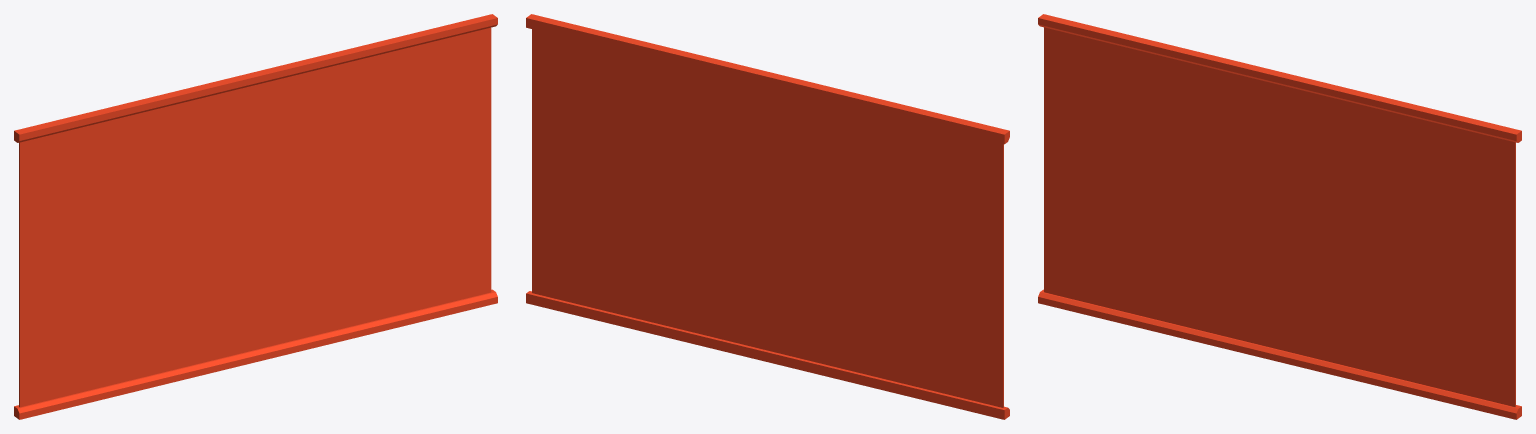
The model's file is SM_Billboard_Burgers_City.fbx.
3 views of the same model, side by side, from view 1: azimuth 30°, elevation 25°; view 2: azimuth 150°, elevation 25°; view 3: azimuth 330°, elevation 25° (orthographic).
Visible parts, largest first — view 1: SM_Billboard_Burgers_City; view 2: SM_Billboard_Burgers_City; view 3: SM_Billboard_Burgers_City.
Part boxes in pixels (x1,y1,x2,y2): SM_Billboard_Burgers_City: [14, 14, 497, 419]; SM_Billboard_Burgers_City: [526, 14, 1009, 419]; SM_Billboard_Burgers_City: [1038, 14, 1521, 419].
Bounding box in the file's own units: 4.07 × 2.32 × 0.0794.
